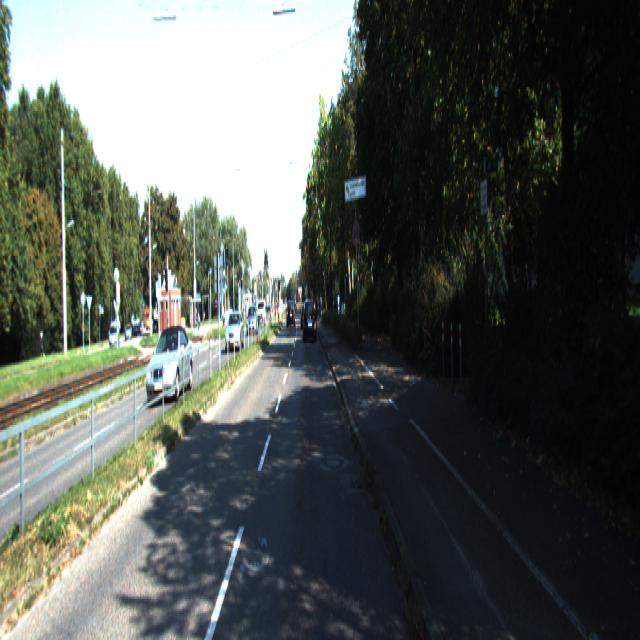Car: (146, 320, 194, 405), (225, 311, 245, 353), (304, 299, 318, 343)
